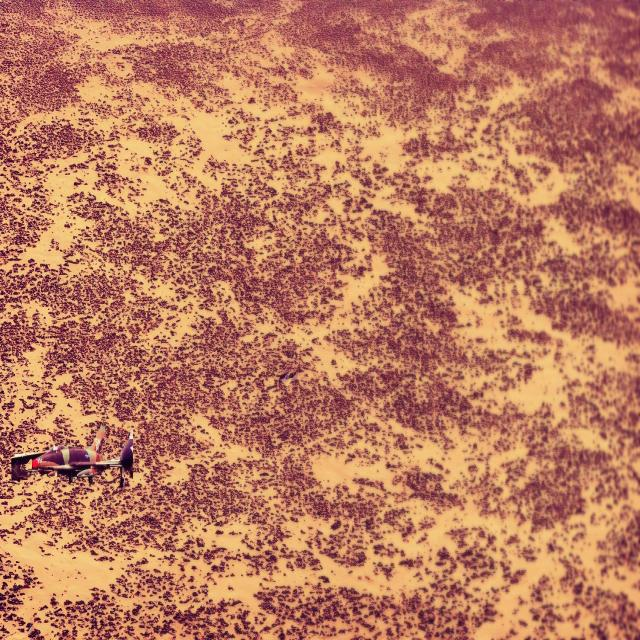airplane: (10, 423, 134, 488)
